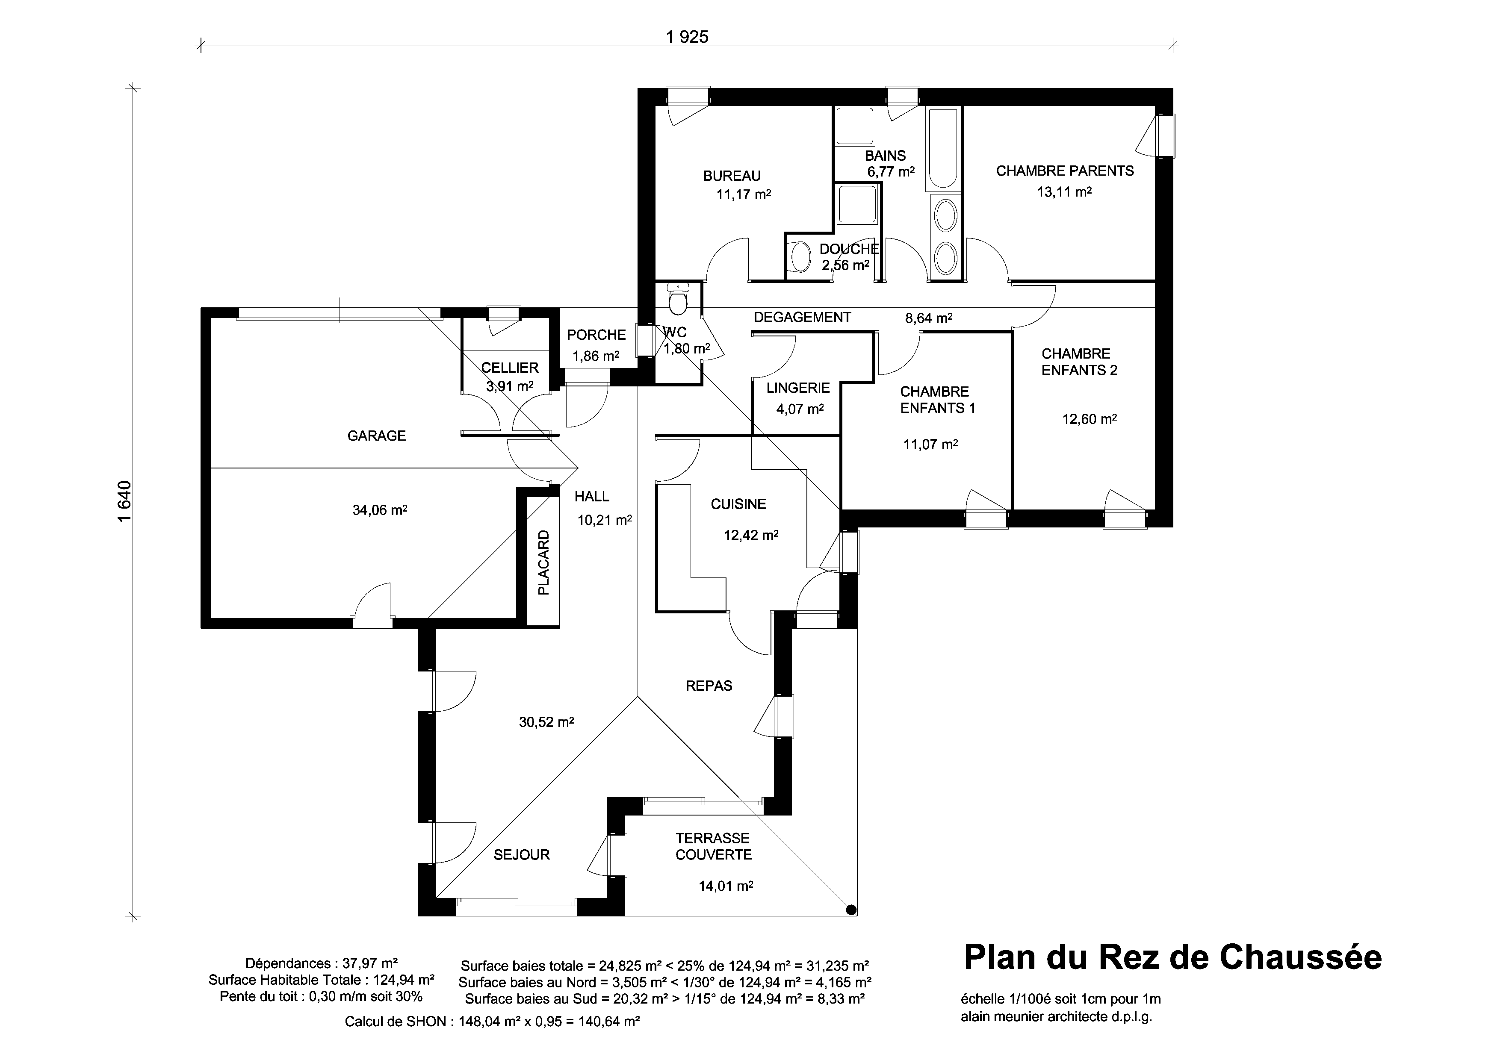bath tab: (924, 106, 961, 193)
ceramic sink: (929, 193, 963, 285), (787, 241, 811, 274)
door: (417, 819, 478, 865), (1006, 281, 1056, 334), (417, 670, 478, 712), (795, 571, 839, 629), (349, 580, 397, 630), (874, 329, 923, 376), (702, 237, 751, 285), (829, 237, 878, 285), (726, 609, 775, 656), (750, 332, 796, 382), (963, 237, 1010, 285), (655, 436, 700, 485), (883, 237, 930, 283), (567, 381, 611, 428), (460, 391, 501, 435), (511, 391, 552, 434)
sliding door: (641, 795, 766, 817)
square bath tab: (835, 184, 880, 226)
toilet: (667, 283, 690, 315)
window: (818, 529, 861, 577), (586, 831, 628, 878), (1101, 488, 1148, 530), (962, 488, 1009, 530), (753, 692, 794, 740), (1134, 114, 1175, 159), (666, 86, 711, 127), (635, 322, 674, 359), (700, 315, 726, 364), (886, 86, 920, 123), (486, 304, 522, 337)
